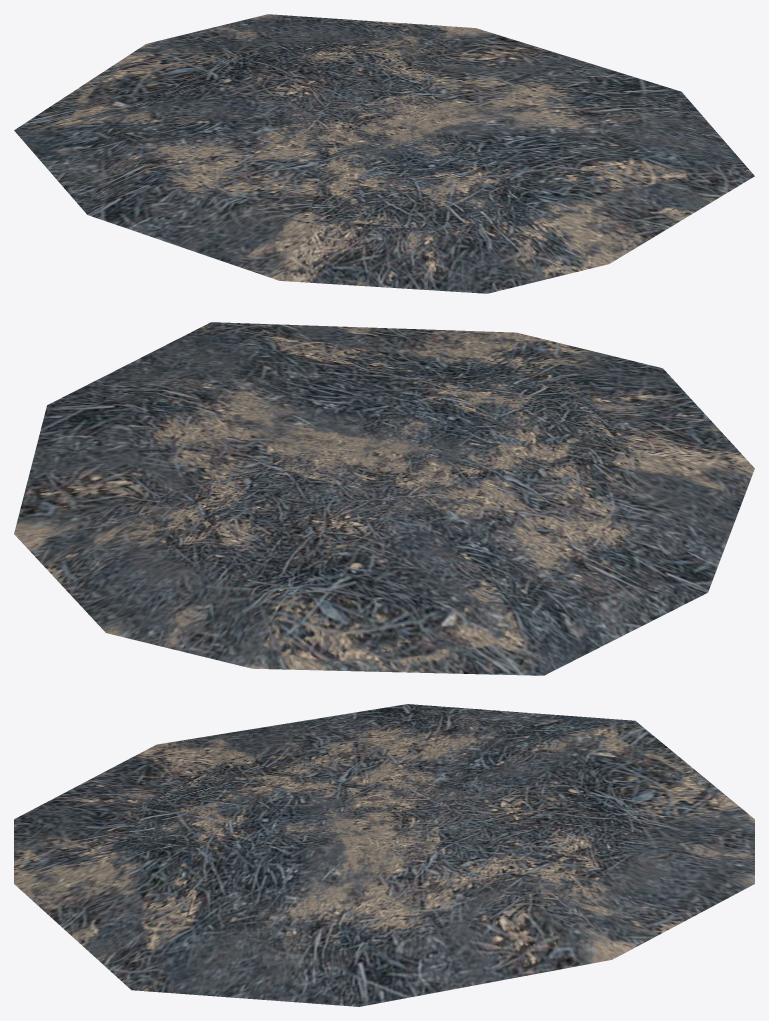
The model's file is SM_BurntGround_01.fbx.
3 views of the same model, one above another, from view 1: azimuth 30°, elevation 25°; view 2: azimuth 150°, elevation 25°; view 3: azimuth 270°, elevation 25° (orthographic). The views are drawn at different scales.
Visible parts, largest first — view 1: SM_BurntGround_01; view 2: SM_BurntGround_01; view 3: SM_BurntGround_01.
Part boxes in pixels (bbox=[...]): SM_BurntGround_01: bbox=[14, 14, 754, 293]; SM_BurntGround_01: bbox=[14, 322, 754, 675]; SM_BurntGround_01: bbox=[14, 704, 754, 1006].
Size of the model in its own units: 4.22 by 0.2046 by 4.36.
